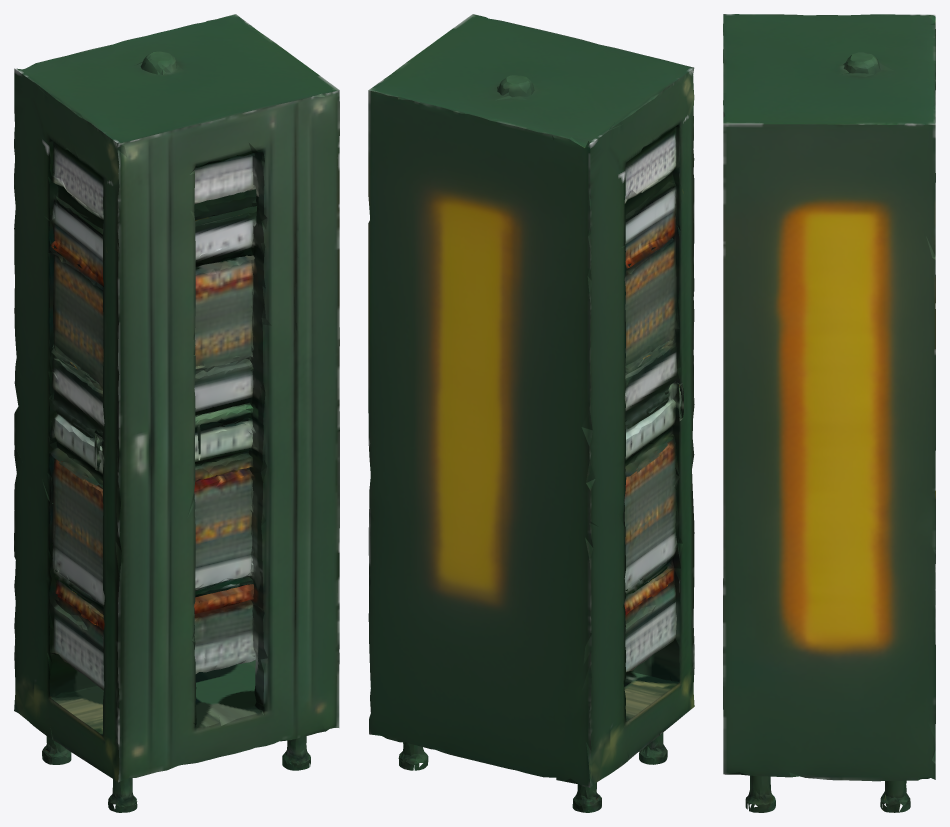
The model's file is codebreakers_mainframe.glb.
3 views of the same model, side by side, from view 1: azimuth 30°, elevation 25°; view 2: azimuth 150°, elevation 25°; view 3: azimuth 270°, elevation 25° (orthographic).
Visible parts, largest first — view 1: codebreakers_mainframe; view 2: codebreakers_mainframe; view 3: codebreakers_mainframe.
Part boxes in pixels (box(x1,y1,x2,y2)): codebreakers_mainframe: box(14, 14, 339, 812); codebreakers_mainframe: box(368, 14, 694, 812); codebreakers_mainframe: box(723, 14, 935, 812).
Size of the model in its own units: 0.6572 by 1.9 by 0.5193.
1 material, 1 textured.
